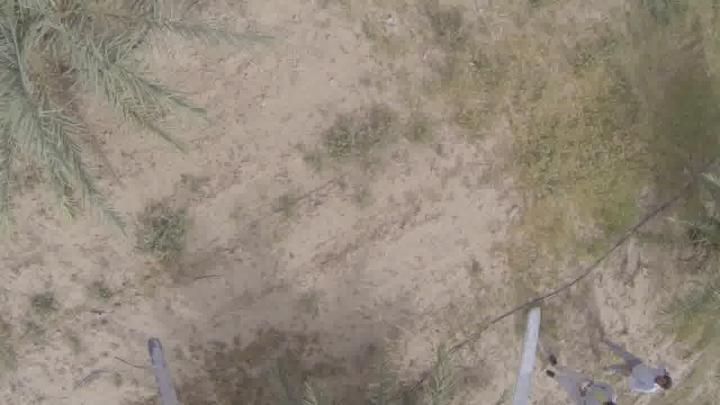Date-Palm-Crown: (0, 0, 106, 102)
